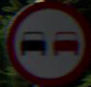No overtake: (8, 5, 81, 70)
